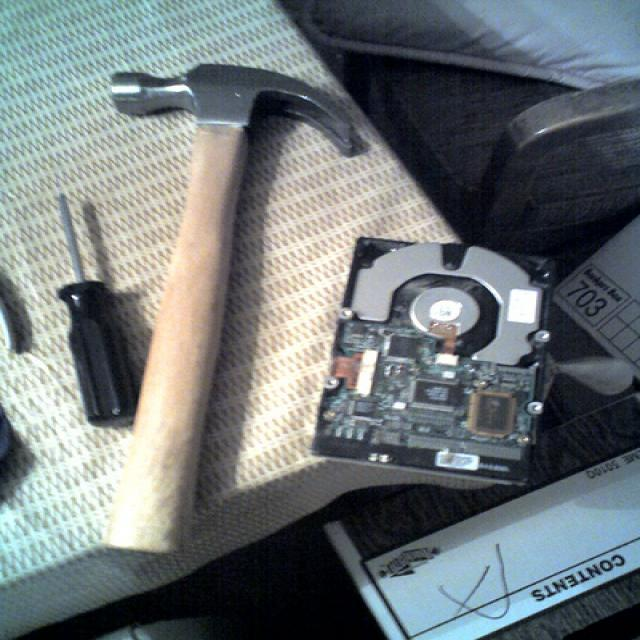hammer: (90, 51, 378, 569)
screwdriver: (38, 175, 144, 452)
